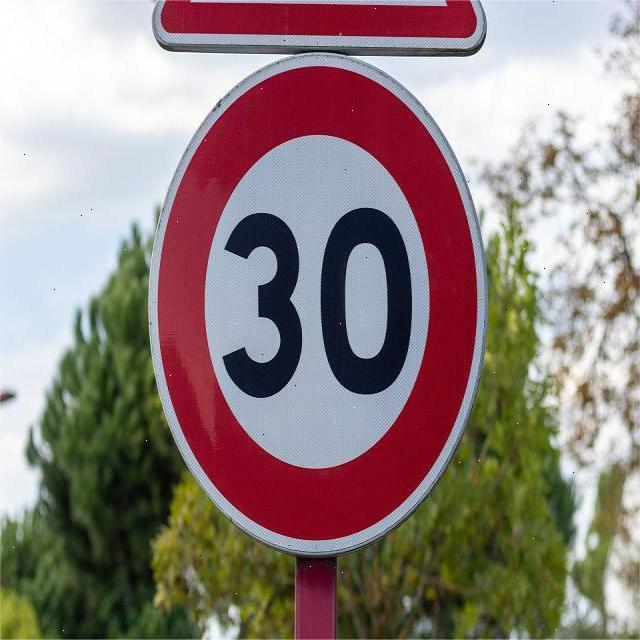speed limit 30: (147, 53, 488, 555)
